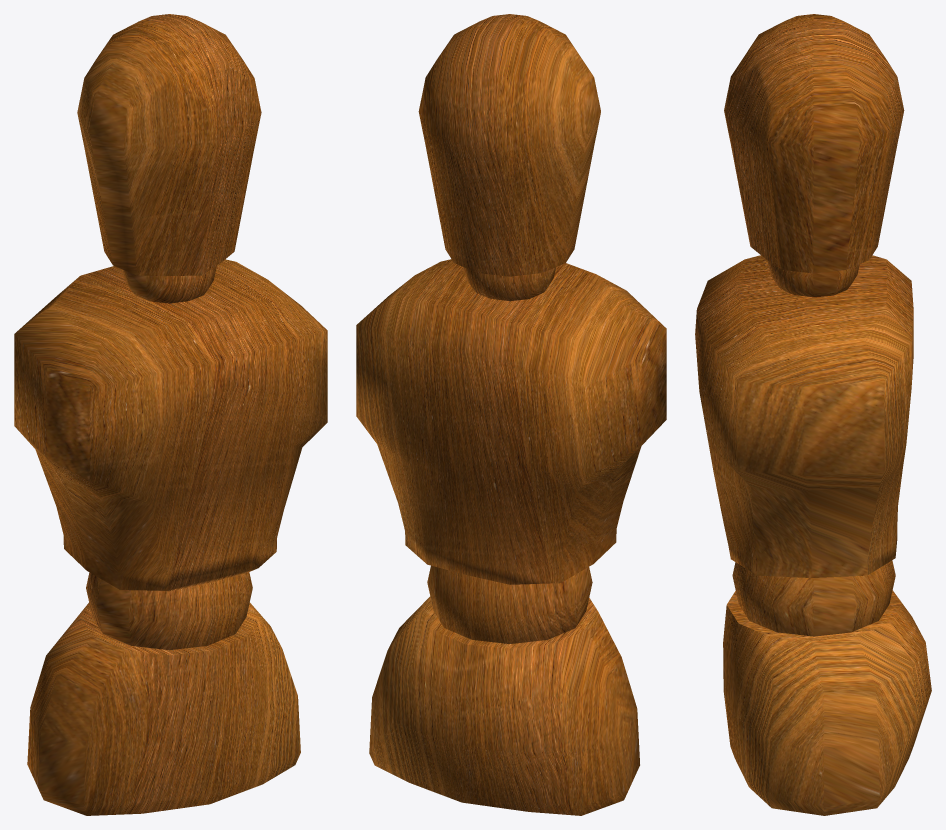
Rendered from Mannequin Body.obj.
The picture shows the model from 3 angles, left to right: view 1: azimuth 30°, elevation 25°; view 2: azimuth 150°, elevation 25°; view 3: azimuth 270°, elevation 25°; orthographic projection. The views are drawn at different scales.
Visible parts, largest first — view 1: dummy_belly dummy_hips3 dummy_torso polySurface1, dummy_hips3 polySurface1, dummy_belly dummy_headq dummy_hips3 dummy_neck dummy_torso polyS, dummy_belly dummy_hips3 polySurface1, dummy_belly dummy_hips3 dummy_neck dummy_torso polySurface1; view 2: dummy_belly dummy_hips3 dummy_torso polySurface1, dummy_hips3 polySurface1, dummy_belly dummy_headq dummy_hips3 dummy_neck dummy_torso polyS, dummy_belly dummy_hips3 polySurface1, dummy_belly dummy_hips3 dummy_neck dummy_torso polySurface1; view 3: dummy_belly dummy_hips3 dummy_torso polySurface1, dummy_belly dummy_headq dummy_hips3 dummy_neck dummy_torso polyS, dummy_hips3 polySurface1, dummy_belly dummy_hips3 polySurface1, dummy_belly dummy_hips3 dummy_neck dummy_torso polySurface1.
Boxes of the visible parts, x1=… form: dummy_belly dummy_hips3 dummy_torso polySurface1: x1=14, y1=259, x2=327, y2=591; dummy_hips3 polySurface1: x1=27, y1=602, x2=300, y2=815; dummy_belly dummy_headq dummy_hips3 dummy_neck dummy_torso polyS: x1=77, y1=14, x2=261, y2=276; dummy_belly dummy_hips3 polySurface1: x1=86, y1=572, x2=252, y2=650; dummy_belly dummy_hips3 dummy_neck dummy_torso polySurface1: x1=123, y1=266, x2=216, y2=303; dummy_belly dummy_hips3 dummy_torso polySurface1: x1=356, y1=259, x2=666, y2=584; dummy_hips3 polySurface1: x1=369, y1=596, x2=639, y2=815; dummy_belly dummy_headq dummy_hips3 dummy_neck dummy_torso polyS: x1=418, y1=14, x2=600, y2=276; dummy_belly dummy_hips3 polySurface1: x1=427, y1=565, x2=592, y2=643; dummy_belly dummy_hips3 dummy_neck dummy_torso polySurface1: x1=464, y1=267, x2=555, y2=301; dummy_belly dummy_hips3 dummy_torso polySurface1: x1=695, y1=255, x2=913, y2=577; dummy_belly dummy_headq dummy_hips3 dummy_neck dummy_torso polyS: x1=724, y1=14, x2=904, y2=273; dummy_hips3 polySurface1: x1=723, y1=590, x2=931, y2=815; dummy_belly dummy_hips3 polySurface1: x1=732, y1=560, x2=895, y2=636; dummy_belly dummy_hips3 dummy_neck dummy_torso polySurface1: x1=768, y1=261, x2=859, y2=297.
Size of the model in its own units: 1.64 by 4.64 by 1.35.
1 material, 1 textured.
